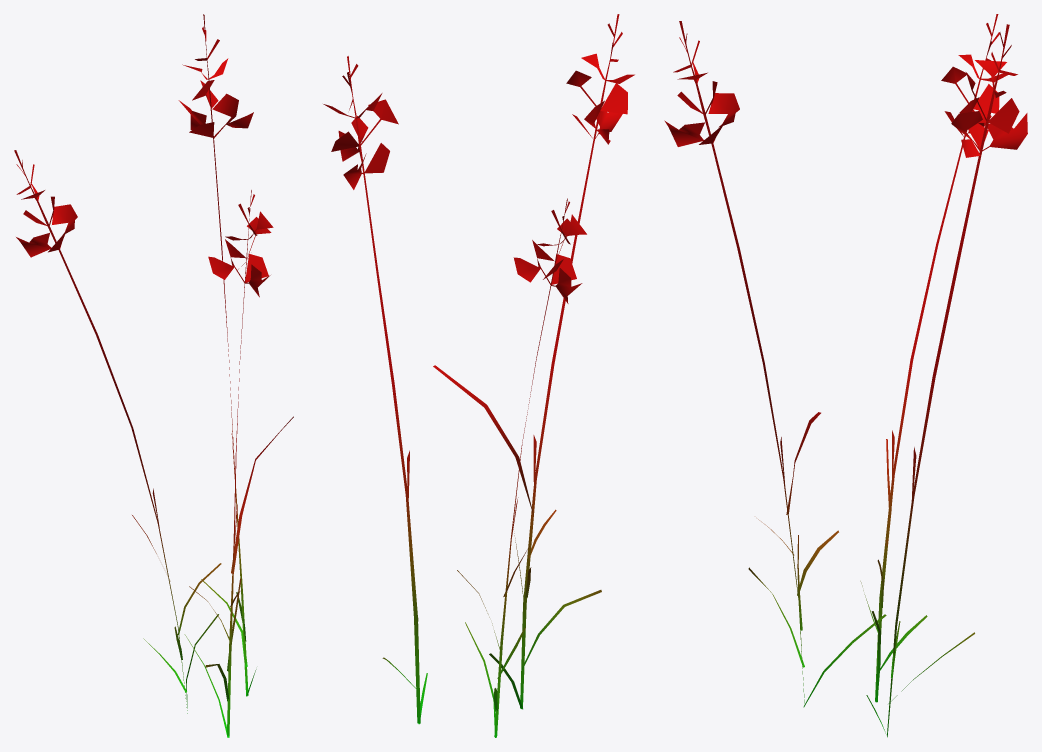
The model's file is Tundra Grass_LOD3_Var9_wk2oaeyqx.fbx.
3 views of the same model, side by side, from view 1: azimuth 30°, elevation 25°; view 2: azimuth 150°, elevation 25°; view 3: azimuth 270°, elevation 25° (orthographic). The views are drawn at different scales.
Parts seen in each view (by area): view 1: _bsna_Var9_LOD3; view 2: _bsna_Var9_LOD3; view 3: _bsna_Var9_LOD3.
Boxes of the visible parts, bbox=[...] form: _bsna_Var9_LOD3: bbox=[14, 14, 293, 737]; _bsna_Var9_LOD3: bbox=[323, 14, 634, 737]; _bsna_Var9_LOD3: bbox=[664, 14, 1027, 737].
Bounding box in the file's own units: 26.65 × 71 × 32.53.
